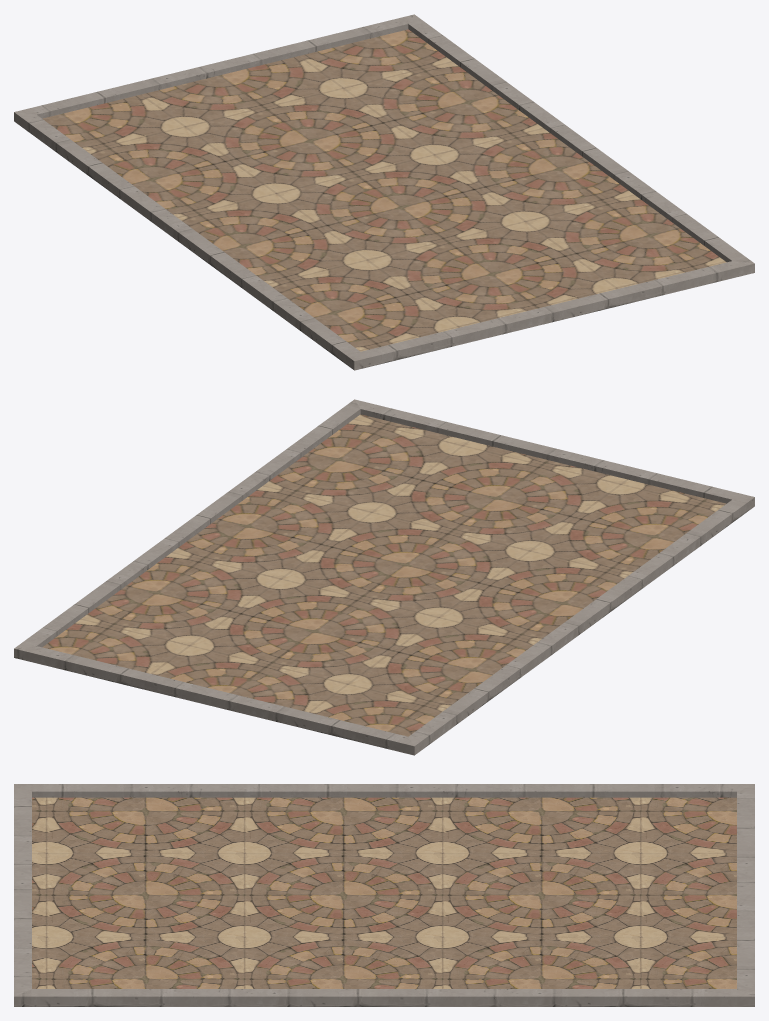
The model's file is TownGroundTile_U.fbx.
3 renders of one model, top to bottom at view 1: azimuth 30°, elevation 25°; view 2: azimuth 150°, elevation 25°; view 3: azimuth 270°, elevation 25°, orthographic. The views are drawn at different scales.
Parts seen in each view (by area): view 1: TownGroundTile_U; view 2: TownGroundTile_U; view 3: TownGroundTile_U.
Part boxes in pixels (left/top/right/bottom): TownGroundTile_U: left=14, top=14, right=754, bottom=370; TownGroundTile_U: left=14, top=399, right=754, bottom=755; TownGroundTile_U: left=14, top=784, right=754, bottom=1006.
Bounding box in the file's own units: 1372 × 30.34 × 2020.
2 materials, 2 textured.
